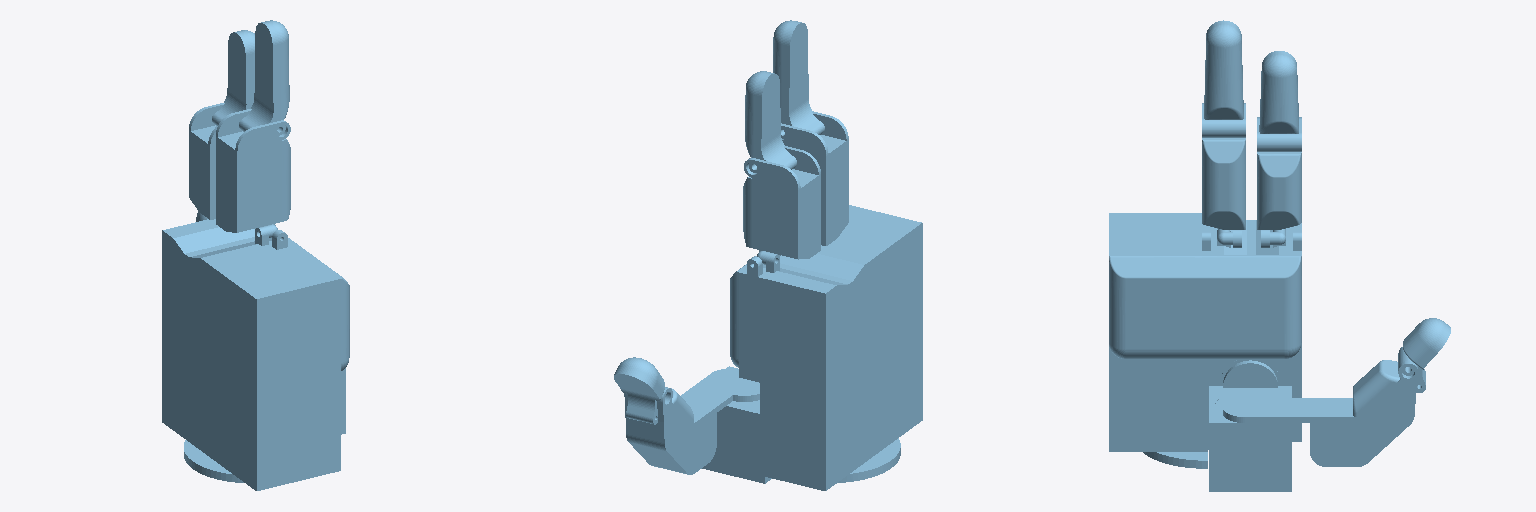
robot.urdf — onshape:
<robot name="onshape">
<link name="base_link">
<visual>
<origin xyz="0.022499999999999999167 0 0.004000000000000001818" rpy="-6.1232339957367660359e-17 -0 1.570796326794896558" />
<geometry>
<mesh filename="meshes/base_link.stl"/>
</geometry>
<material name="base_link_material">
<color rgba="0.61568627450980395466 0.81176470588235294379 0.92941176470588238168 1.0"/>
</material>
</visual>
<collision>
<origin xyz="0.022499999999999999167 0 0.004000000000000001818" rpy="-6.1232339957367660359e-17 -0 1.570796326794896558" />
<geometry>
<mesh filename="meshes/base_link.stl"/>
</geometry>
</collision>
<inertial>
<origin xyz="0.00039299999999997041293 0.0012500000000000017607 0.050382000000000058682" rpy="0 0 0"/>
<mass value="0.69999999999999895639" />
<inertia ixx="0.00091975000000000010306" ixy="1.4059670824682581796e-05"  ixz="-5.0134299895249528e-05" iyy="0.00064095334999999999809" iyz="-1.2660829247592519746e-05" izz="0.00057912900000000005866" />
</inertial>
</link>

<link name="back_hand">
<inertial>
<origin xyz="0 0 0" rpy="0 0 0" />
<mass value="1e-9" />
<inertia ixx="0" ixy="0" ixz="0" iyy="0" iyz="0" izz="0" />
</inertial>
</link>
<joint name="back_hand_frame" type="fixed">
<origin xyz="-0.012000000000000010658 0.0087950000000000007339 0.08300000000000000433" rpy="-3.141592653589793116 -1.570796326794896558 0" />
<parent link="base_link" />
<child link="back_hand" />
<axis xyz="0 0 0"/>
</joint>

<link name="link_0_0">
<visual>
<origin xyz="0 0 0" rpy="-1.570796326794896558 -1.570796326794896558 0" />
<geometry>
<mesh filename="meshes/link_0_0.stl"/>
</geometry>
<material name="link_0_0_material">
<color rgba="0.61568627450980395466 0.81176470588235294379 0.92941176470588238168 1.0"/>
</material>
</visual>
<collision>
<origin xyz="0 0 0" rpy="-1.570796326794896558 -1.570796326794896558 0" />
<geometry>
<mesh filename="meshes/link_0_0.stl"/>
</geometry>
</collision>
<inertial>
<origin xyz="0.013948999999999999594 9.5512043114350516298e-19 0.019587000000000000244" rpy="0 0 0"/>
<mass value="0.12800000000000003042" />
<inertia ixx="3.19146156500755494e-05" ixy="-2.0489391457552031912e-38"  ixz="-8.0439952883636156129e-07" iyy="3.1474733414388381375e-05" iyz="-7.6025014959503108629e-38" izz="2.8490043198646855527e-05" />
</inertial>
</link>

<link name="link_0_1">
<visual>
<origin xyz="6.9388939039072283776e-18 4.8572257327350598644e-17 0" rpy="-3.141592653589793116 -7.8475303096459979674e-32 -2.4179613096907262284e-32" />
<geometry>
<mesh filename="meshes/link_0_1.stl"/>
</geometry>
<material name="link_0_1_material">
<color rgba="0.61568627450980395466 0.81176470588235294379 0.92941176470588238168 1.0"/>
</material>
</visual>
<collision>
<origin xyz="6.9388939039072283776e-18 4.8572257327350598644e-17 0" rpy="-3.141592653589793116 -7.8475303096459979674e-32 -2.4179613096907262284e-32" />
<geometry>
<mesh filename="meshes/link_0_1.stl"/>
</geometry>
</collision>
<inertial>
<origin xyz="0.0084530000000000108523 -0.039625999999999959866 0.0024310000000000000012" rpy="0 0 0"/>
<mass value="0.045999999999999985345" />
<inertia ixx="2.3368923926605413162e-05" ixy="6.0418261424786376445e-07"  ixz="-5.4358686285291777287e-08" iyy="7.2542608497344604804e-06" iyz="-3.6081252959038368649e-06" izz="1.9531928502098601814e-05" />
</inertial>
</link>

<link name="link_0_2">
<visual>
<origin xyz="1.3877787807814456755e-17 -0.004499999999999990119 -0.0069999999999999992784" rpy="-1.570796326794896558 -1.570796326794896558 0" />
<geometry>
<mesh filename="meshes/link_0_2.stl"/>
</geometry>
<material name="link_0_2_material">
<color rgba="0.61568627450980395466 0.81176470588235294379 0.92941176470588238168 1.0"/>
</material>
</visual>
<collision>
<origin xyz="1.3877787807814456755e-17 -0.004499999999999990119 -0.0069999999999999992784" rpy="-1.570796326794896558 -1.570796326794896558 0" />
<geometry>
<mesh filename="meshes/link_0_2.stl"/>
</geometry>
</collision>
<inertial>
<origin xyz="0.0001370000000000143076 0.0094880000000000103144 -0.0070000001041999994691" rpy="0 0 0"/>
<mass value="0.0060000000000000018596" />
<inertia ixx="5.5804280736782390273e-07" ixy="9.6190184039645028517e-08"  ixz="-1.2012932679583274374e-37" iyy="2.4377397642684847816e-07" iyz="5.6783030342953052041e-38" izz="5.2560794285760837064e-07" />
</inertial>
</link>

<link name="thumb_tip">
<inertial>
<origin xyz="0 0 0" rpy="0 0 0" />
<mass value="1e-9" />
<inertia ixx="0" ixy="0" ixz="0" iyy="0" iyz="0" izz="0" />
</inertial>
</link>
<joint name="thumb_tip_frame" type="fixed">
<origin xyz="6.9388939039072283776e-18 0.025500000000000022649 -0.0069999999999999992784" rpy="-1.570796326794896558 -1.2246467991473490164e-16 1.5707963267948903408" />
<parent link="link_0_2" />
<child link="thumb_tip" />
<axis xyz="0 0 0"/>
</joint>

<joint name="l01_l02" type="revolute">
<origin xyz="0.015499999999999819478 -0.071102290732122458428 -0.025102290732122459205" rpy="-1.570796326794896558 -0.69631528840256062818 -1.5707963267949023312" />
<parent link="link_0_1" />
<child link="link_0_2" />
<axis xyz="0 0 1"/>
<limit effort="0.6" velocity="2" upper="0.785398" lower="0" />
<joint_properties friction="0.0"/>
</joint>

<joint name="l00_l01" type="revolute">
<origin xyz="0 -3.8163916471489756077e-17 0.021500000000000005218" rpy="-3.1415926535897926719 -1.5707963267948934494 0" />
<parent link="link_0_0" />
<child link="link_0_1" />
<axis xyz="0 0 1"/>
<limit effort="1.2" velocity="2" upper="1.0472" lower="0" />
<joint_properties friction="0.0"/>
</joint>

<joint name="base_l00" type="revolute">
<origin xyz="0.011499999999999996336 0.020499999999999997391 0.032000000000000000666" rpy="-1.6616426800486583493e-15 1.570796326794896558 0" />
<parent link="base_link" />
<child link="link_0_0" />
<axis xyz="0 0 1"/>
<limit effort="1.2" velocity="2" upper="1.48353" lower="0" />
<joint_properties friction="0.0"/>
</joint>

<link name="link_1_0">
<visual>
<origin xyz="0 0 0" rpy="1.570796326794896558 4.7158863341051553336e-33 -2.4651903288156618919e-32" />
<geometry>
<mesh filename="meshes/link_1_0.stl"/>
</geometry>
<material name="link_1_0_material">
<color rgba="0.61568627450980395466 0.81176470588235294379 0.92941176470588238168 1.0"/>
</material>
</visual>
<collision>
<origin xyz="0 0 0" rpy="1.570796326794896558 4.7158863341051553336e-33 -2.4651903288156618919e-32" />
<geometry>
<mesh filename="meshes/link_1_0.stl"/>
</geometry>
</collision>
<inertial>
<origin xyz="0.000819146638064082778 -1.2832181956198874593e-08 -0.0027528628879477708841" rpy="0 0 0"/>
<mass value="1.0000000000000000818e-05" />
<inertia ixx="4.6927765119457290201e-11" ixy="-6.3603315141571130446e-16"  ixz="3.7052763596674654562e-12" iyy="5.9232011659831275745e-11" iyz="1.0205067640164029442e-15" izz="5.767071614087058313e-11" />
</inertial>
</link>

<link name="link_1_1">
<visual>
<origin xyz="1.7347234759768070944e-18 1.3877787807814456755e-17 0.0081999999999999989564" rpy="-1.570796326794896558 -1.570796326794896558 0" />
<geometry>
<mesh filename="meshes/link_1_1.stl"/>
</geometry>
<material name="link_1_1_material">
<color rgba="0.61568627450980395466 0.81176470588235294379 0.92941176470588238168 1.0"/>
</material>
</visual>
<collision>
<origin xyz="1.7347234759768070944e-18 1.3877787807814456755e-17 0.0081999999999999989564" rpy="-1.570796326794896558 -1.570796326794896558 0" />
<geometry>
<mesh filename="meshes/link_1_1.stl"/>
</geometry>
</collision>
<inertial>
<origin xyz="0.0087559999999999964249 0.022004000000000013132 0.0065050000000000003653" rpy="0 0 0"/>
<mass value="0.029000000000000018818" />
<inertia ixx="5.27762124602104313e-06" ixy="-1.0393620152342419468e-07"  ixz="1.1946977010413742665e-08" iyy="3.3556548243569315684e-06" iyz="1.0807160989266081313e-07" izz="6.248125894963155725e-06" />
</inertial>
</link>

<link name="link_1_2">
<visual>
<origin xyz="1.7347234759768070944e-18 -0.0045000000000000039968 -0.0081000000000000030309" rpy="-1.570796326794896558 -1.570796326794896558 0" />
<geometry>
<mesh filename="meshes/link_1_2.stl"/>
</geometry>
<material name="link_1_2_material">
<color rgba="0.61568627450980395466 0.81176470588235294379 0.92941176470588238168 1.0"/>
</material>
</visual>
<collision>
<origin xyz="1.7347234759768070944e-18 -0.0045000000000000039968 -0.0081000000000000030309" rpy="-1.570796326794896558 -1.570796326794896558 0" />
<geometry>
<mesh filename="meshes/link_1_2.stl"/>
</geometry>
</collision>
<inertial>
<origin xyz="-6.7999999999998278293e-05 0.01788200000000000206 -0.0081040543157719531486" rpy="0 0 0"/>
<mass value="0.0089999999999999958505" />
<inertia ixx="1.8182418038054153964e-06" ixy="1.957982473068381484e-07"  ixz="-1.5999225541587355522e-10" iyy="3.266295822213078712e-07" iyz="-3.5545707387990473304e-10" izz="1.7776359752083371624e-06" />
</inertial>
</link>

<link name="index_tip">
<inertial>
<origin xyz="0 0 0" rpy="0 0 0" />
<mass value="1e-9" />
<inertia ixx="0" ixy="0" ixz="0" iyy="0" iyz="0" izz="0" />
</inertial>
</link>
<joint name="index_tip_frame" type="fixed">
<origin xyz="0 0.04350000000000001088 -0.008100000000000585898" rpy="-1.57079632679489678 -2.3429107291650431014e-15 1.570796326794896558" />
<parent link="link_1_2" />
<child link="index_tip" />
<axis xyz="0 0 0"/>
</joint>

<joint name="l11_l12" type="revolute">
<origin xyz="3.4694469519536141888e-18 0.048000000000000000999 0.012200000000000016387" rpy="5.1000870193715387284e-16 3.6598190781807174636e-30 1.3877787807814518385e-16" />
<parent link="link_1_1" />
<child link="link_1_2" />
<axis xyz="0 0 1"/>
<limit effort="0.6" velocity="2" upper="1.8326" lower="0" />
<joint_properties friction="0.0"/>
</joint>

<joint name="l10_l11" type="revolute">
<origin xyz="0.004100000000000013356 -1.3877787807814456755e-17 -0.0030000000000000043993" rpy="-8.1445031776486881829e-16 -1.570796326794896558 0" />
<parent link="link_1_0" />
<child link="link_1_1" />
<axis xyz="0 0 1"/>
<limit effort="1.2" velocity="2" upper="1.5708" lower="0" />
<joint_properties friction="0.0"/>
</joint>

<joint name="base_l10" type="revolute">
<origin xyz="0.012499999999999990286 0.03349999999999999506 0.10700000000000002565" rpy="1.570796326794896558 3.8857805861880464124e-16 -1.570796326794896336" />
<parent link="base_link" />
<child link="link_1_0" />
<axis xyz="0 0 1"/>
<limit effort="1.2" velocity="2" upper="0.349066" lower="-0.349066"/>
<joint_properties friction="0.0"/>
</joint>

<link name="link_2_0">
<visual>
<origin xyz="0 0 0" rpy="-1.570796326794896558 1.2714758896382251659e-34 -2.7733391199176196284e-31" />
<geometry>
<mesh filename="meshes/link_2_0.stl"/>
</geometry>
<material name="link_2_0_material">
<color rgba="0.61568627450980395466 0.81176470588235294379 0.92941176470588238168 1.0"/>
</material>
</visual>
<collision>
<origin xyz="0 0 0" rpy="-1.570796326794896558 1.2714758896382251659e-34 -2.7733391199176196284e-31" />
<geometry>
<mesh filename="meshes/link_2_0.stl"/>
</geometry>
</collision>
<inertial>
<origin xyz="-0.00081914663806408288642 -1.2832181955765625513e-08 0.0027528628879477713177" rpy="0 0 0"/>
<mass value="1.0000000000000002512e-05" />
<inertia ixx="4.6927765119457296663e-11" ixy="6.3603315141545098036e-16"  ixz="3.7052763596674678796e-12" iyy="5.9232011659831314519e-11" iyz="-1.0205067640162692323e-15" izz="5.7670716140870589592e-11" />
</inertial>
</link>

<link name="link_2_1">
<visual>
<origin xyz="0 0 0" rpy="-1.570796326794896558 -1.570796326794896558 0" />
<geometry>
<mesh filename="meshes/link_2_1.stl"/>
</geometry>
<material name="link_2_1_material">
<color rgba="0.61568627450980395466 0.81176470588235294379 0.92941176470588238168 1.0"/>
</material>
</visual>
<collision>
<origin xyz="0 0 0" rpy="-1.570796326794896558 -1.570796326794896558 0" />
<geometry>
<mesh filename="meshes/link_2_1.stl"/>
</geometry>
</collision>
<inertial>
<origin xyz="0.0085439999999999995117 0.024626000000000002055 -0.0063329999999999983529" rpy="0 0 0"/>
<mass value="0.032000000000000000666" />
<inertia ixx="7.5121579278742119052e-06" ixy="-1.3758796641942274686e-07"  ixz="-2.4693395950631606476e-08" iyy="3.6903185474825162327e-06" iyz="-1.6799534293588041651e-07" izz="8.6555505371513904252e-06" />
</inertial>
</link>

<link name="link_2_2">
<visual>
<origin xyz="0 -0.0045000000000000039968 -0.0080999999999999978267" rpy="-1.570796326794896558 -1.570796326794896558 0" />
<geometry>
<mesh filename="meshes/link_2_2.stl"/>
</geometry>
<material name="link_2_2_material">
<color rgba="0.61568627450980395466 0.81176470588235294379 0.92941176470588238168 1.0"/>
</material>
</visual>
<collision>
<origin xyz="0 -0.0045000000000000039968 -0.0080999999999999978267" rpy="-1.570796326794896558 -1.570796326794896558 0" />
<geometry>
<mesh filename="meshes/link_2_2.stl"/>
</geometry>
</collision>
<inertial>
<origin xyz="-0.00026799999999999995484 0.021854999999999989019 -0.008102784667325156967" rpy="0 0 0"/>
<mass value="0.010000000000000001943" />
<inertia ixx="2.685189088507177864e-06" ixy="2.2862338094051682095e-07"  ixz="-1.1563037383062501311e-10" iyy="3.5734866796571522237e-07" iyz="-3.8132107836066552964e-10" izz="2.6340748543019151072e-06" />
</inertial>
</link>

<link name="middle_tip">
<inertial>
<origin xyz="0 0 0" rpy="0 0 0" />
<mass value="1e-9" />
<inertia ixx="0" ixy="0" ixz="0" iyy="0" iyz="0" izz="0" />
</inertial>
</link>
<joint name="middle_tip_frame" type="fixed">
<origin xyz="-1.7520707107365751654e-16 0.051500000000001072697 -0.008100000000000403752" rpy="-1.570796326794896336 -1.0522764630383045396e-15 1.570796326794896558" />
<parent link="link_2_2" />
<child link="middle_tip" />
<axis xyz="0 0 0"/>
</joint>

<joint name="l21_l22" type="revolute">
<origin xyz="-6.2450045135165055399e-17 0.055000000000000617839 0.0039999999999998005901" rpy="-1.3947176746853519178e-15 2.4109735503037200832e-18 1.2731915420014086542e-16" />
<parent link="link_2_1" />
<child link="link_2_2" />
<axis xyz="0 0 1"/>
<limit effort="0.6" velocity="2" upper="1.8326" lower="0" />
<joint_properties friction="0.0"/>
</joint>

<joint name="l20_l21" type="revolute">
<origin xyz="-0.0041000000000000966227 5.5511151231257827021e-16 0.00299999999999990552" rpy="-3.1415926535897917837 1.570796326794896558 0" />
<parent link="link_2_0" />
<child link="link_2_1" />
<axis xyz="0 0 1"/>
<limit effort="1.2" velocity="2" upper="1.5708" lower="0" />
<joint_properties friction="0.0"/>
</joint>

<joint name="base_l20" type="revolute">
<origin xyz="0.012500000000000085695 0.0084999999999998982619 0.10700000000000056688" rpy="-1.570796326794896558 1.4155343563970747863e-15 -1.570796326794896558" />
<parent link="base_link" />
<child link="link_2_0" />
<axis xyz="0 0 1"/>
<limit effort="1.2" velocity="2" upper="0.349066" lower="-0.349066" />
<joint_properties friction="0.0"/>
</joint>


</robot>

--- Render facts (derived) ---
3 views of the same robot in one strip: view 1: azimuth 30°, elevation 25°; view 2: azimuth 150°, elevation 25°; view 3: azimuth 270°, elevation 25° (orthographic).
Model onshape with 14 links and 13 joints (9 revolute, 4 fixed), rooted at base_link, posed every joint at zero.
Links seen in each view (by area): view 1: base_link, link_2_1, link_2_2, link_1_1, link_1_2; view 2: base_link, link_0_1, link_1_1, link_2_1, link_2_2, link_0_0, link_1_2, link_0_2; view 3: base_link, link_0_1, link_0_0, link_2_1, link_2_2, link_1_1, link_1_2, link_0_2.
Link boxes in pixels (x1,y1,x2,y2): base_link: (162, 219, 349, 490); link_2_1: (216, 109, 290, 232); link_2_2: (239, 20, 289, 135); link_1_1: (189, 103, 224, 219); link_1_2: (212, 30, 254, 125); base_link: (730, 205, 922, 490); link_0_1: (624, 369, 759, 474); link_1_1: (743, 146, 820, 259); link_2_1: (781, 111, 848, 245); link_2_2: (773, 20, 824, 138); link_0_0: (702, 366, 771, 483); link_1_2: (745, 71, 796, 172); link_0_2: (614, 357, 664, 424); base_link: (1109, 213, 1301, 468); link_0_1: (1223, 347, 1417, 466); link_0_0: (1209, 360, 1291, 491); link_2_1: (1202, 103, 1245, 247); link_2_2: (1204, 20, 1243, 137); link_1_1: (1257, 117, 1301, 247); link_1_2: (1259, 51, 1298, 151); link_0_2: (1398, 318, 1450, 392).
Bounding box of the posed robot: 0.083 × 0.1545 × 0.2155 m (x, y, z).
Meshes: 10 distinct files referenced, 10 mesh visuals loaded (10 binary STL).